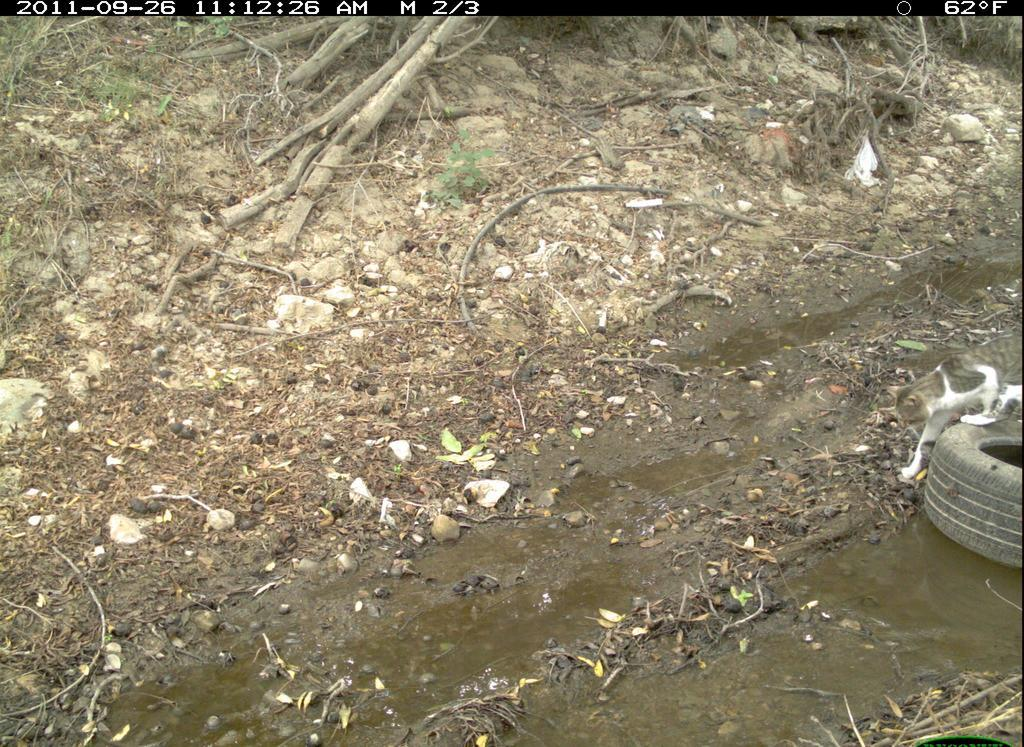cat: (882, 332, 1022, 487)
